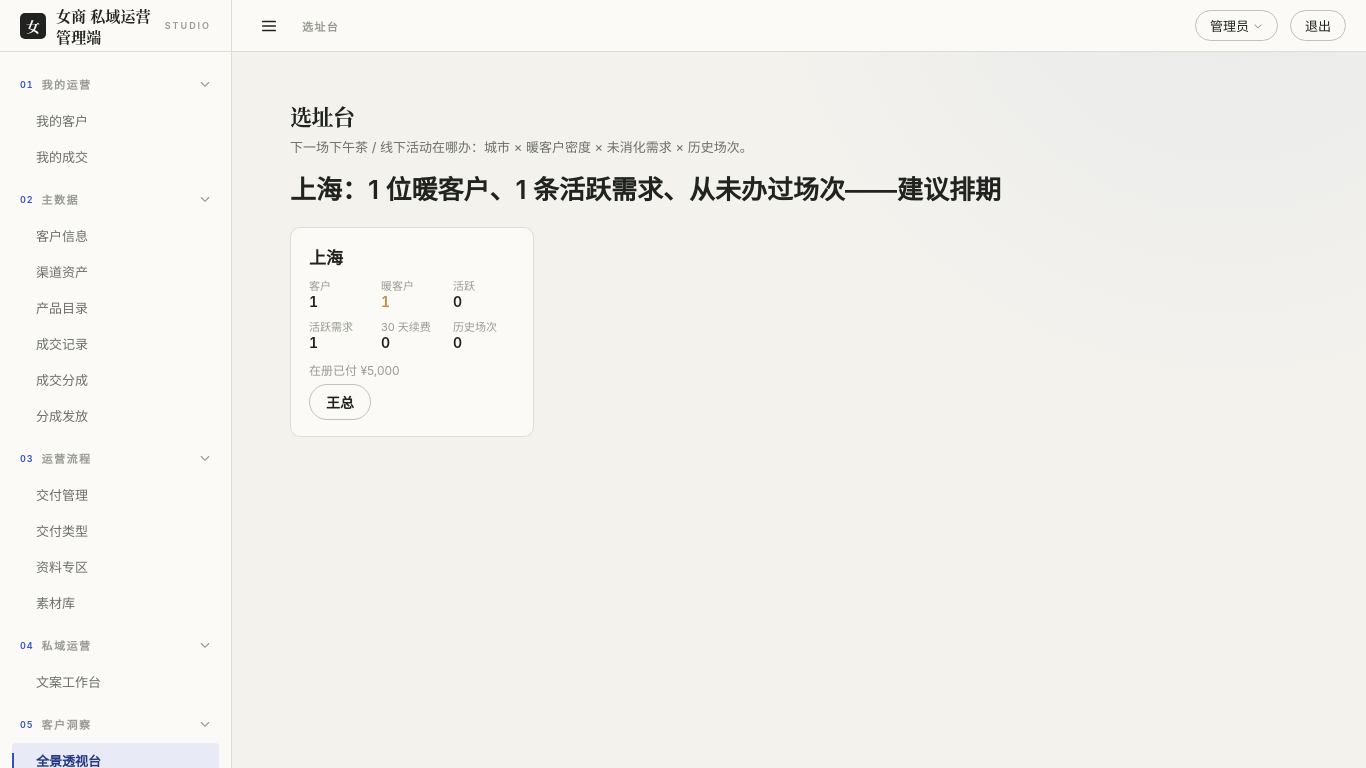
Scenario: 决策台四页 › 选址台：结论行 + 城市卡 + 点客户名深潜
Expected: the heading "选址台" is shown, [290,100,355,131]
Expected: the text "上海：1 位暖客户、1 条活跃需求、从未办过场次——建议排期" is shown, [290,174,1001,205]
What coordinates should you click on to do the following:
click the button "王总"
I would click on:
 (340, 402)
Its box is [309,384,371,420].
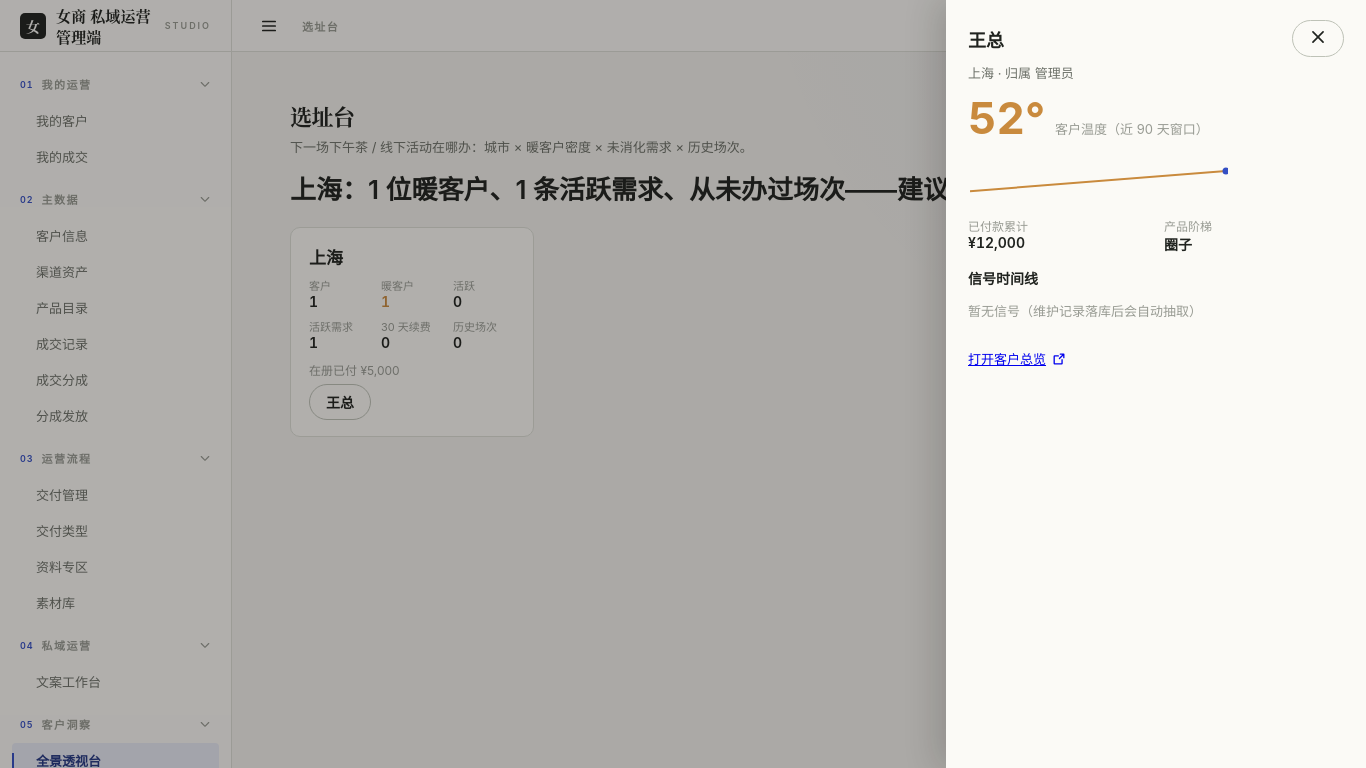
Expected: the dialog named "客户深潜" shows "52°", [946,0,1365,767]
